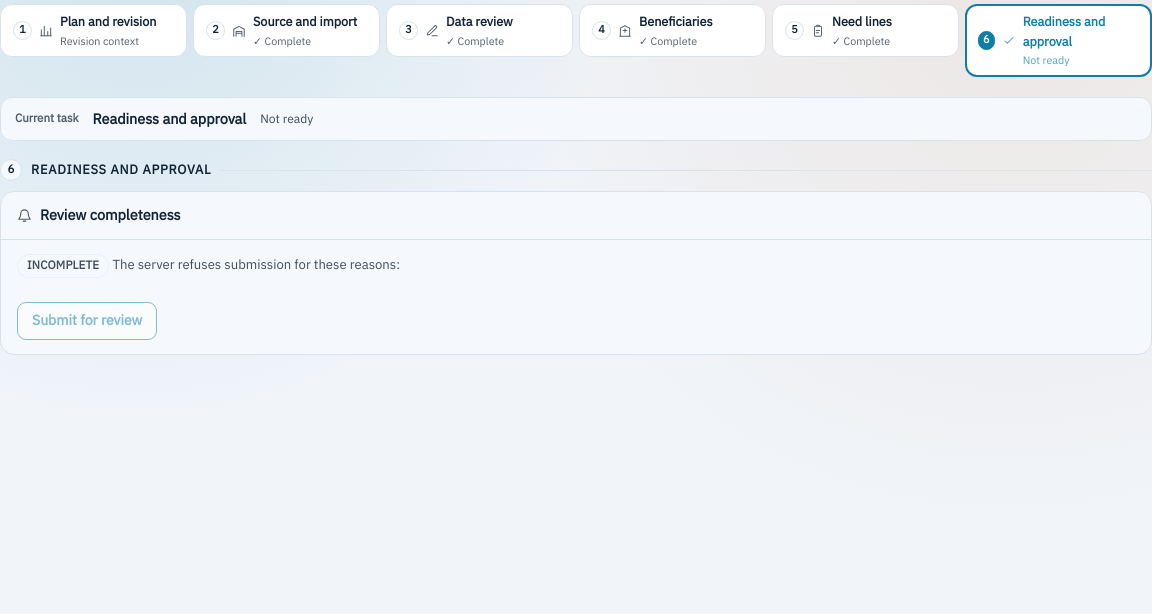
Test: UX-2A — selection survives filtering › keeps a hidden entity selected, and keeps saying so in the SELECTED count
Click the button "3 Data review ✓ Complete" at [480, 31], box top-left (386, 4), bottom-right (573, 58)
(page scrolled)
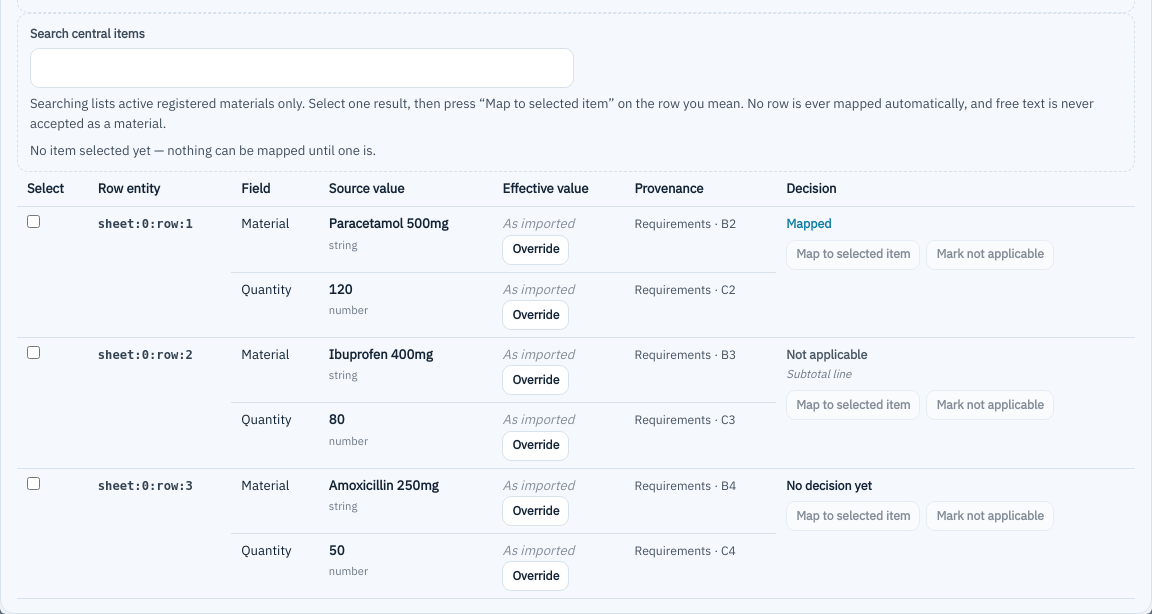
Click the checkbox named "sheet:0:row:3" next to "sheet:0:row:3" at [34, 483], box top-left (27, 477), bottom-right (40, 490)
(page scrolled)
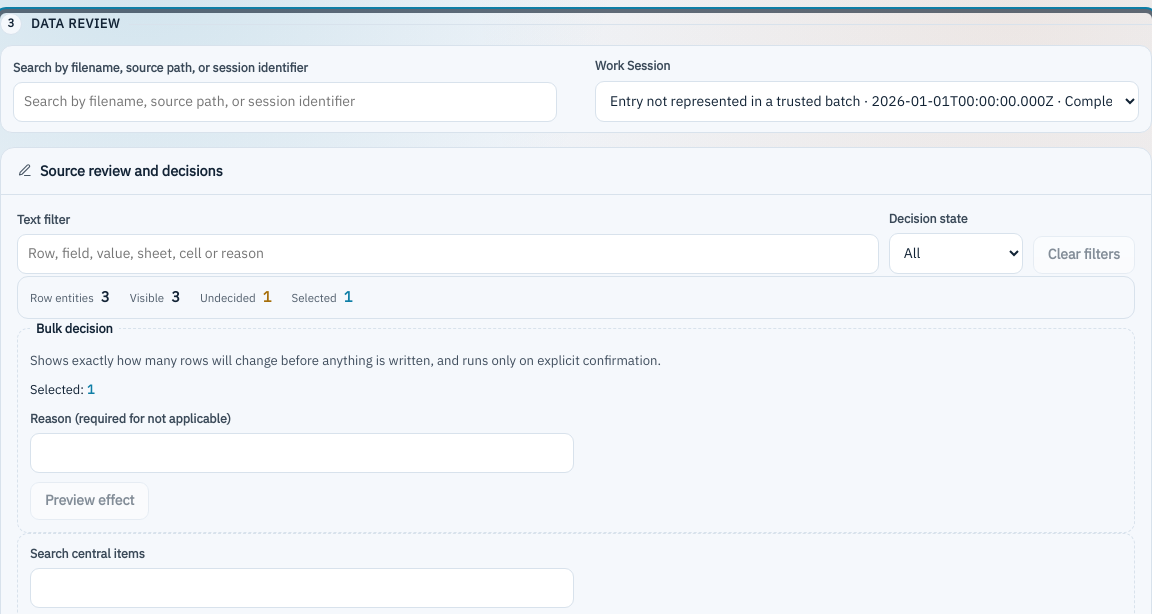
Type "Ibuprofen" into the search field labelled "Text filter" at [448, 254], box top-left (17, 234), bottom-right (879, 274)
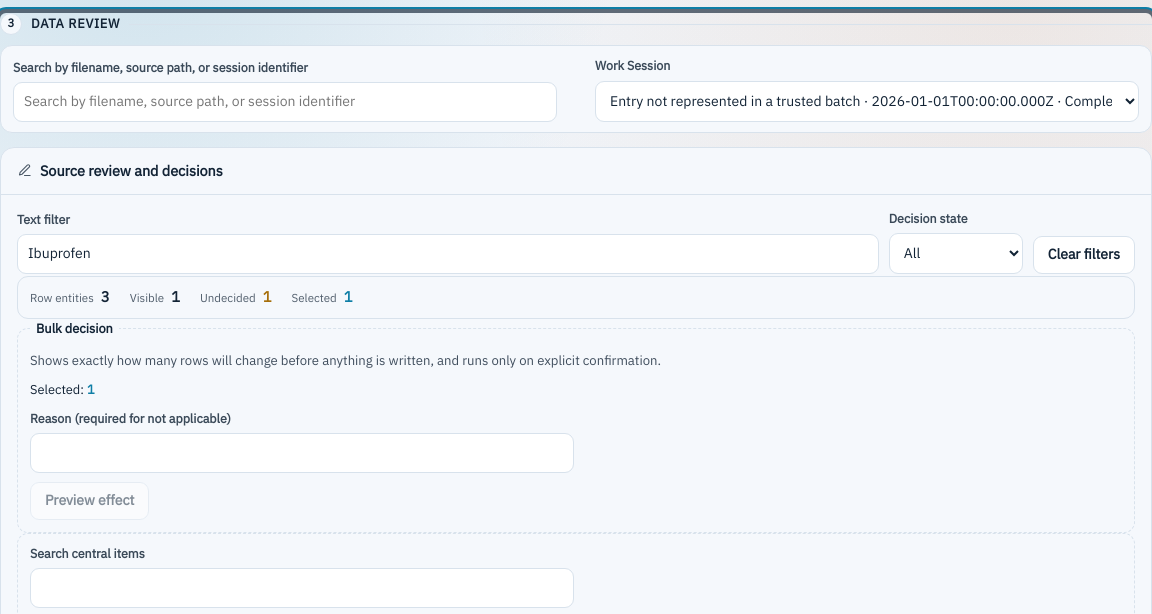
Click the button "Clear filters" at [1084, 255], box top-left (1033, 236), bottom-right (1135, 274)
(page scrolled)
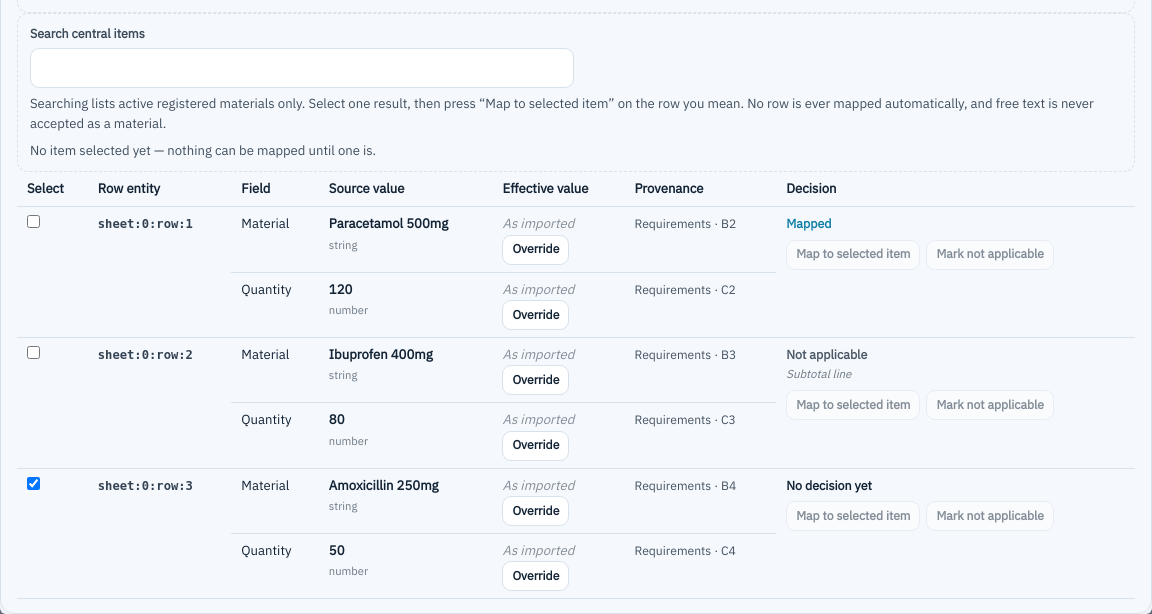
Expected: the checkbox named "sheet:0:row:3" next to "sheet:0:row:3" is checked, top-left (27, 477), bottom-right (40, 490)
